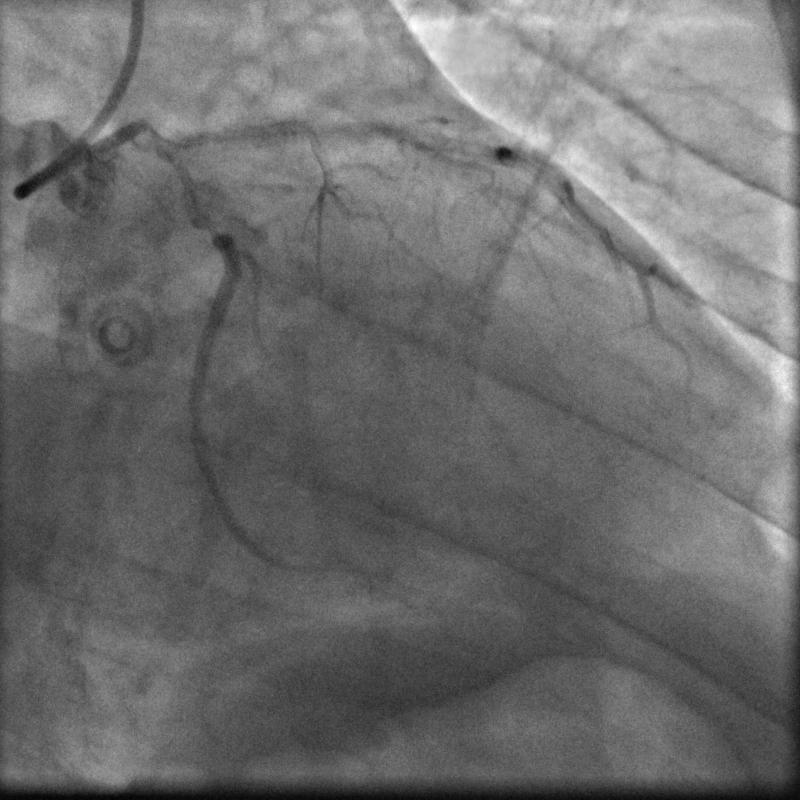Stenosis: (199, 222, 226, 235)
